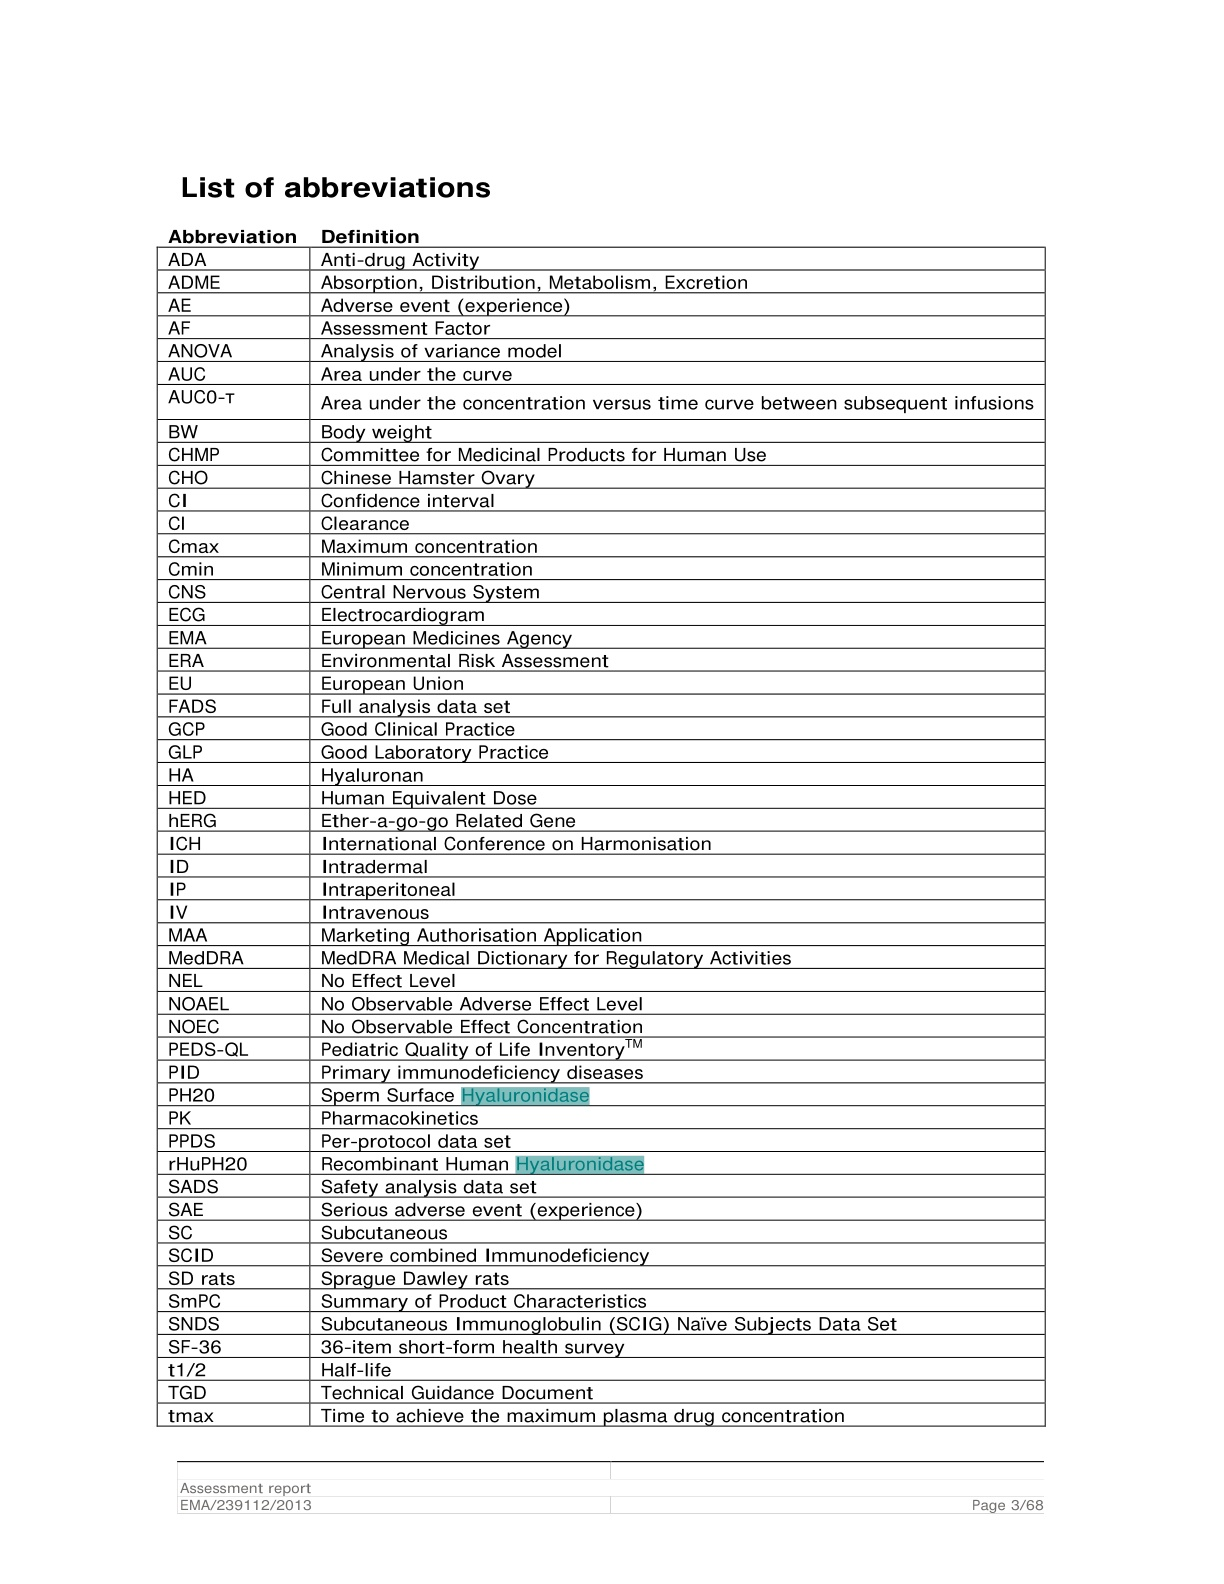full_lined: (156, 246, 1047, 1428)
